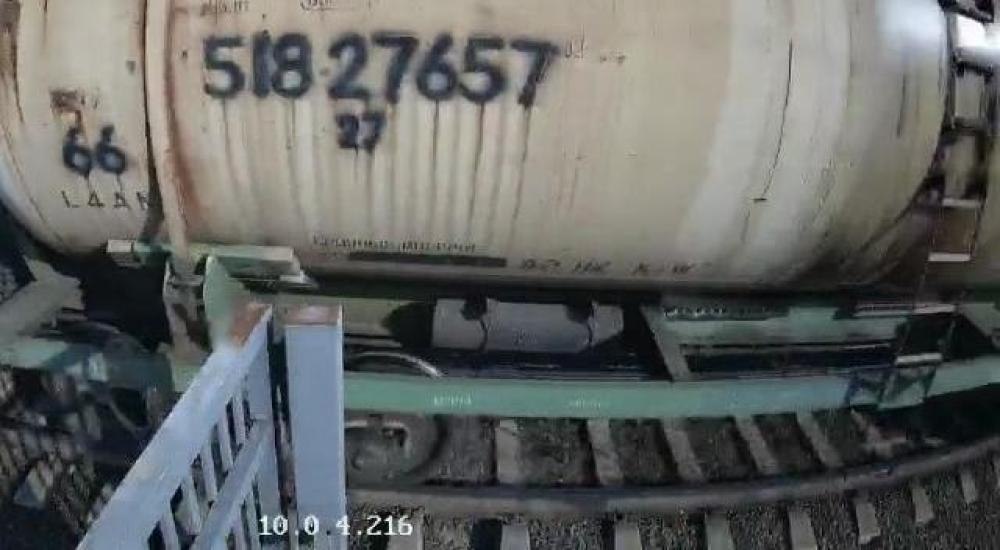Wagon-number: (193, 27, 561, 109)
